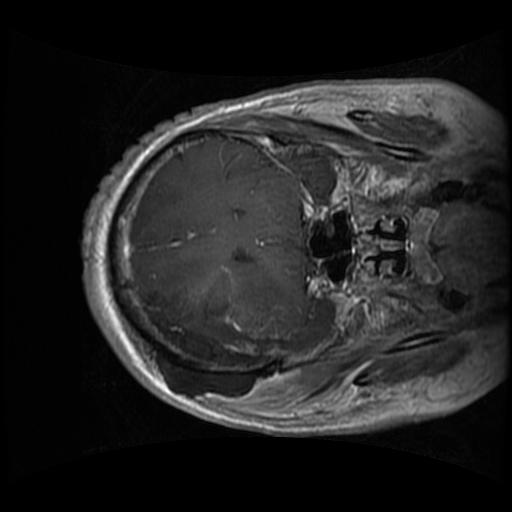glioma: (141, 293, 281, 371)
